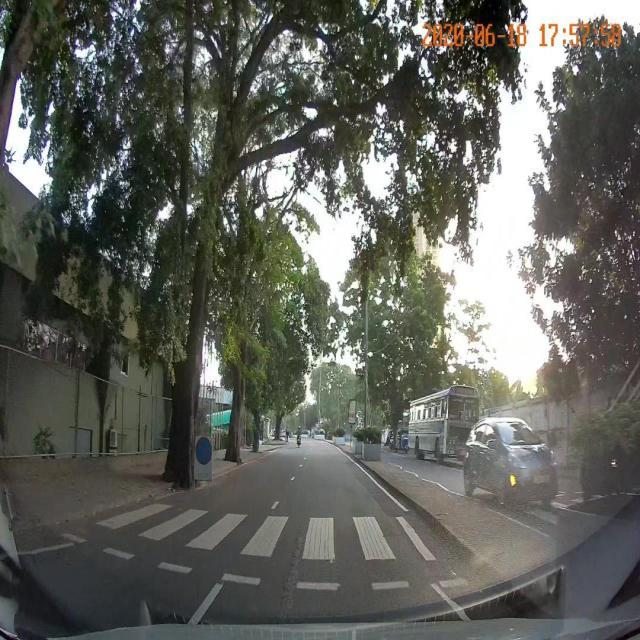Liniya 1: (355, 462, 413, 513), (428, 579, 475, 624), (187, 581, 226, 627), (18, 541, 79, 557), (268, 501, 281, 511)
Perehod: (90, 502, 440, 563)
